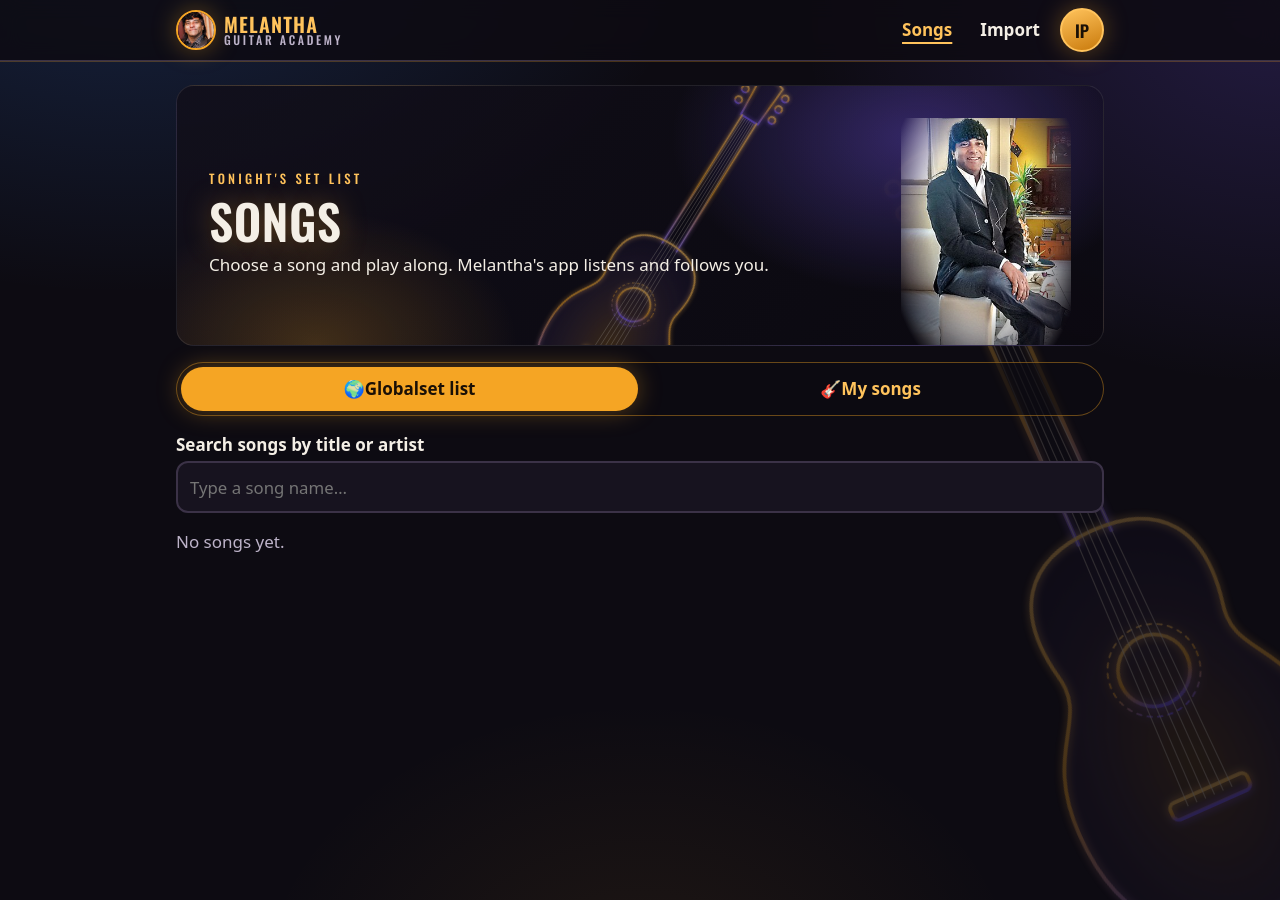
Test case: My progress › the account menu links to My progress and My songs
Click the button with aria-label "Account:" at (1082, 30), box [1060, 8, 1104, 52]
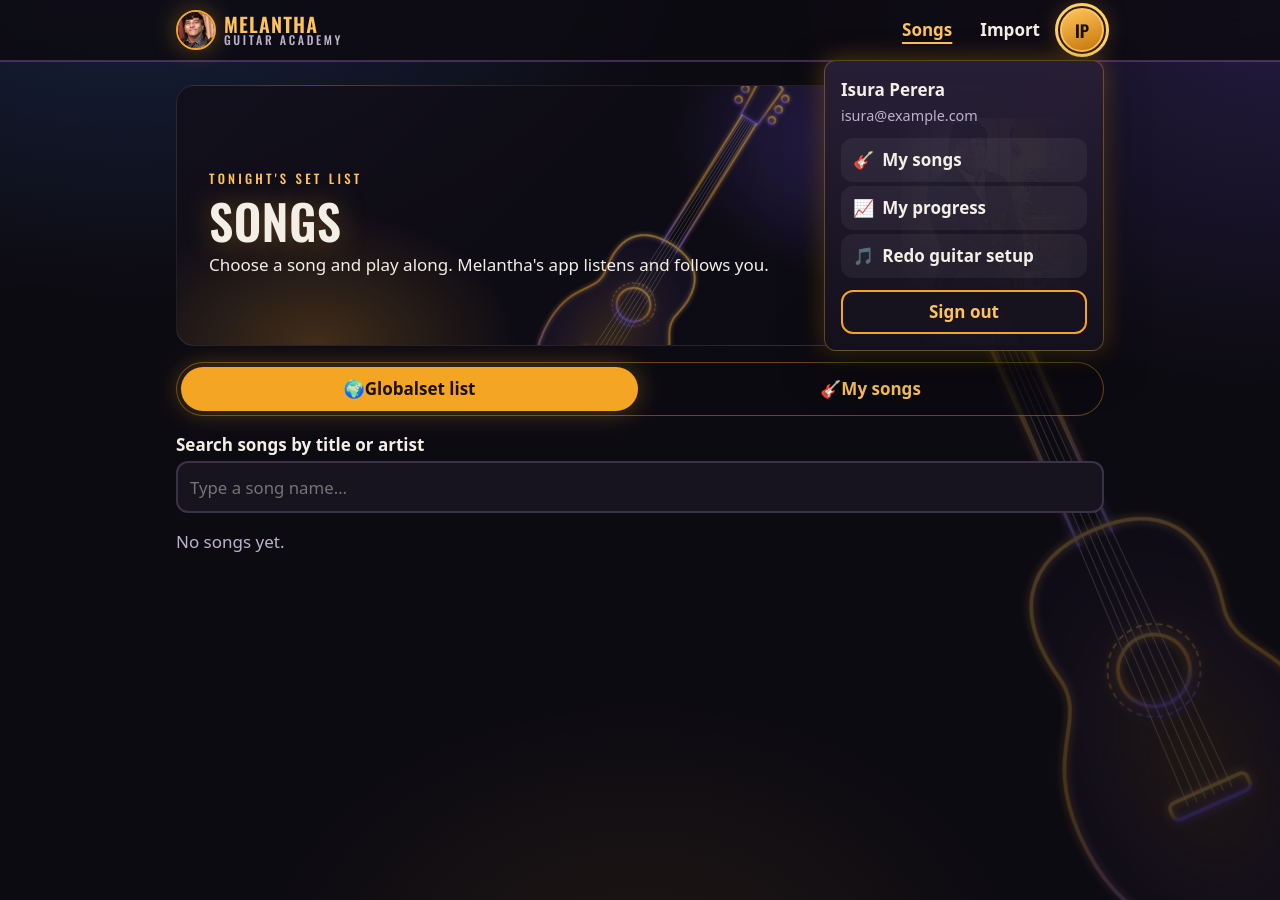
Expected: the navigation bar named "Your account" shows "My songs", [841, 138, 1087, 182]
